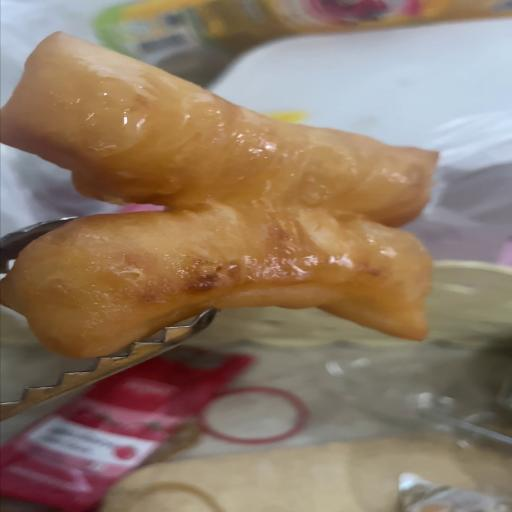street_burnt_good: (0, 33, 437, 358)
